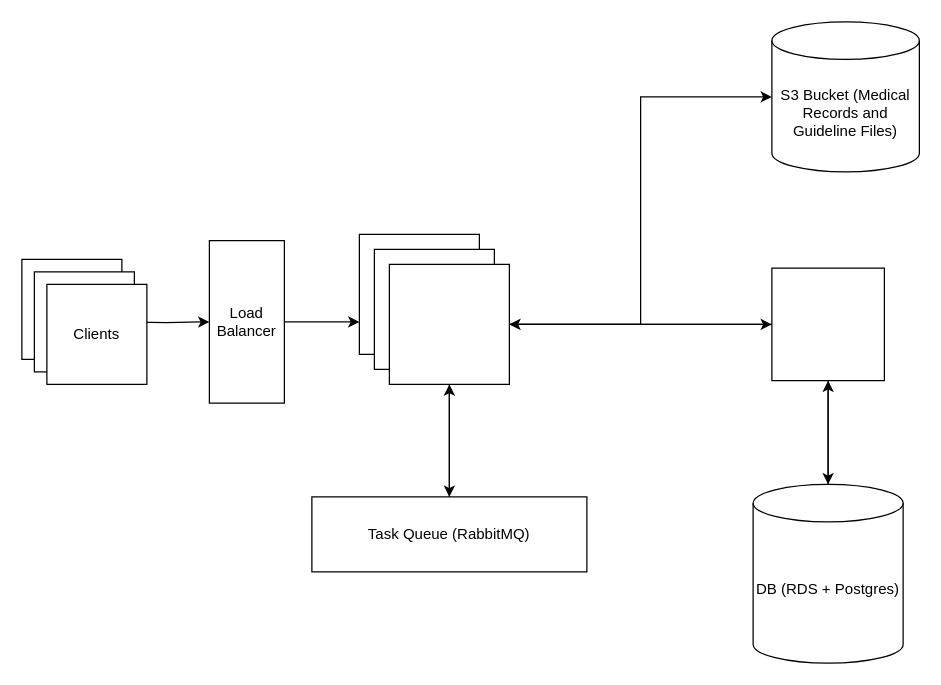
The diagram is 941 pixels wide and 685 high, and some of its shapes have lost their labels. The shapes that lost their labels are listed below. From the top down, each one's centre as x and y in pixels, then its label:
(448,323): Web Server (Multiple Instances)
(827,324): Redis (Cache)
